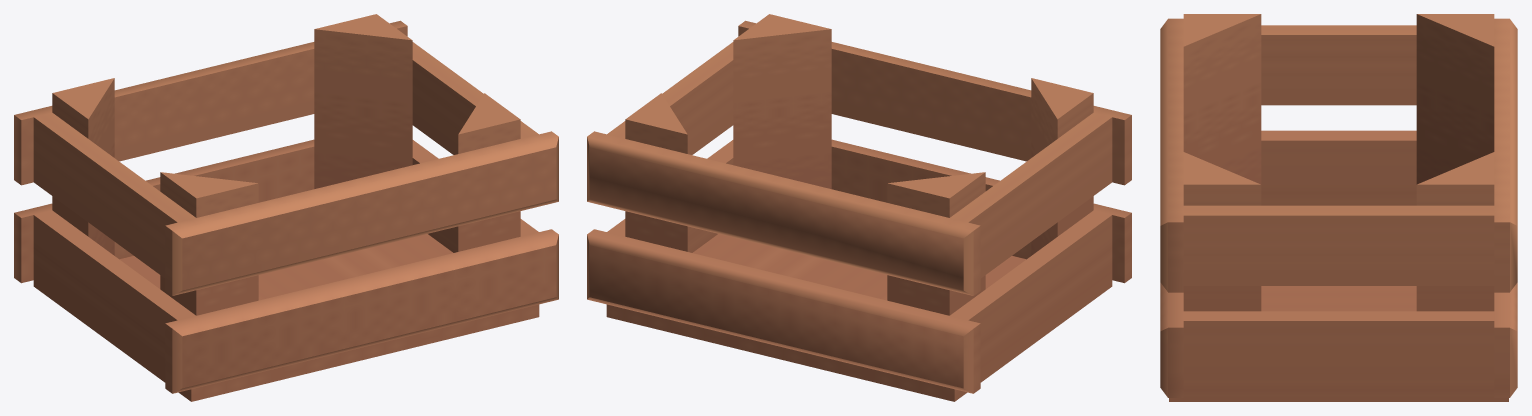
The model's file is Food_Crate_Large_Empty.gltf.
The picture shows the model from 3 angles, left to right: view 1: azimuth 30°, elevation 25°; view 2: azimuth 150°, elevation 25°; view 3: azimuth 270°, elevation 25°; orthographic projection. The views are drawn at different scales.
Visible parts, largest first — view 1: Food_Crate_Large_Empty; view 2: Food_Crate_Large_Empty; view 3: Food_Crate_Large_Empty.
Boxes of the visible parts, x1,y1,x2,y2 form: Food_Crate_Large_Empty: (14,14,558,401); Food_Crate_Large_Empty: (587,14,1131,401); Food_Crate_Large_Empty: (1160,14,1517,401).
Size of the model in its own units: 1.03 by 0.4992 by 0.7657.
1 material, 1 textured.
